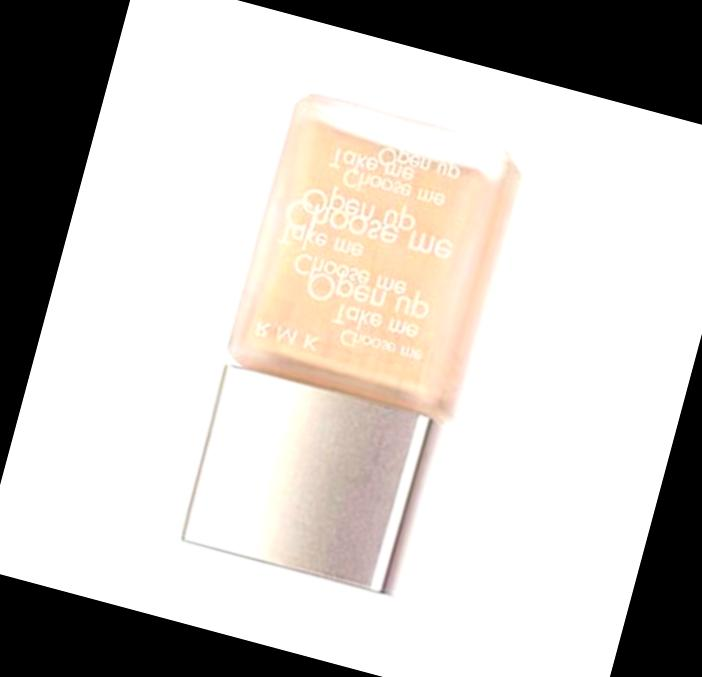cosmetic: (170, 85, 534, 605)
